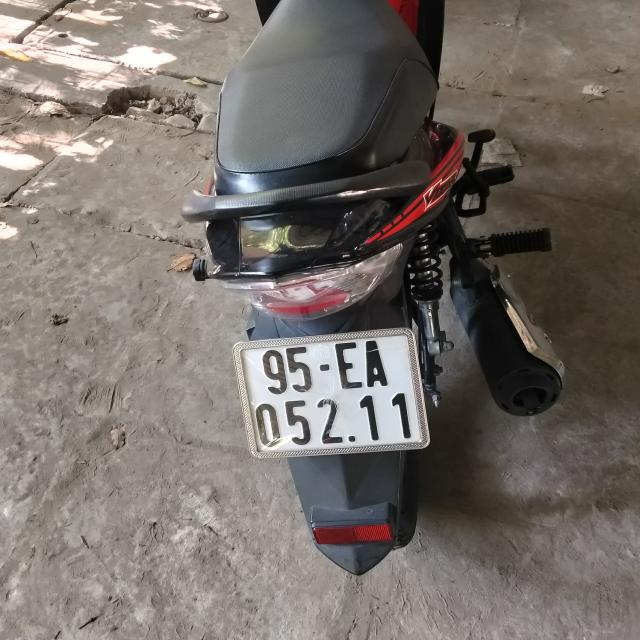0: (251, 401, 283, 449)
1: (355, 392, 383, 442), (390, 392, 416, 440)
2: (315, 398, 347, 445)
5: (285, 345, 317, 397), (284, 399, 313, 447)
9: (260, 348, 289, 396)
A: (362, 338, 392, 390)
E: (331, 341, 366, 390)
